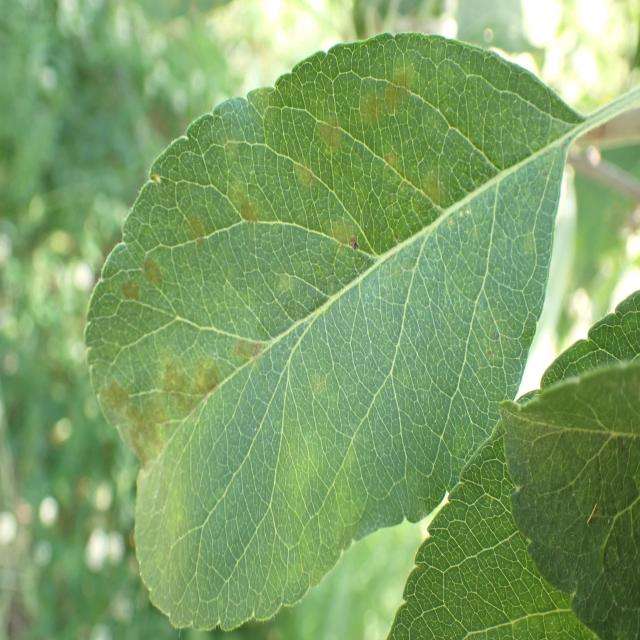scab: (64, 48, 505, 476)
